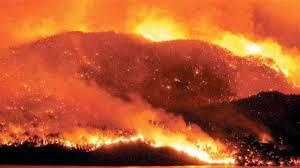fire: (0, 111, 255, 156)
